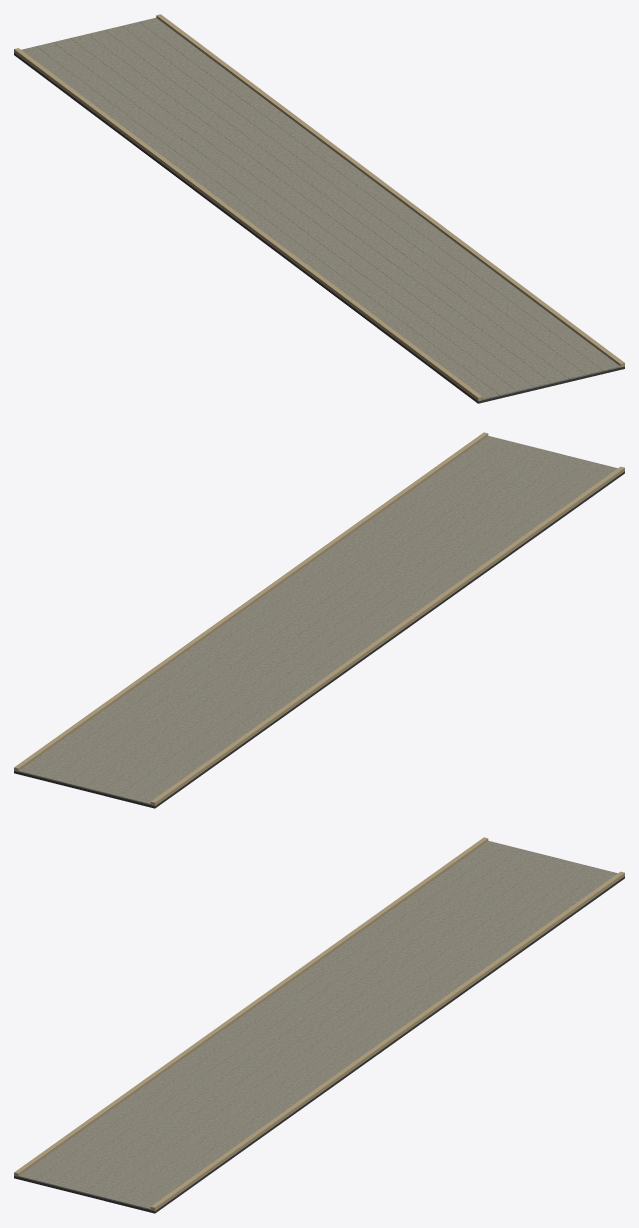
Rendered from track_main_15.fbx.
The picture shows the model from 3 angles, top to bottom: view 1: azimuth 30°, elevation 25°; view 2: azimuth 150°, elevation 25°; view 3: azimuth 330°, elevation 25°; orthographic projection. The views are drawn at different scales.
Parts seen in each view (by area): view 1: roman_concrete.001, travertine.001, basalt.001; view 2: roman_concrete.001, travertine.001, basalt.001; view 3: roman_concrete.001, travertine.001, basalt.001.
Boxes of the visible parts, box(x1,y1,x2,y2) form: roman_concrete.001: box(21, 17, 620, 400); travertine.001: box(14, 14, 624, 401); basalt.001: box(14, 53, 624, 403); roman_concrete.001: box(18, 436, 617, 804); travertine.001: box(14, 432, 624, 806); basalt.001: box(14, 471, 624, 808); roman_concrete.001: box(18, 841, 617, 1209); travertine.001: box(14, 837, 624, 1211); basalt.001: box(14, 876, 624, 1213).
Size of the model in its own units: 108860 by 576704 by 4000.
